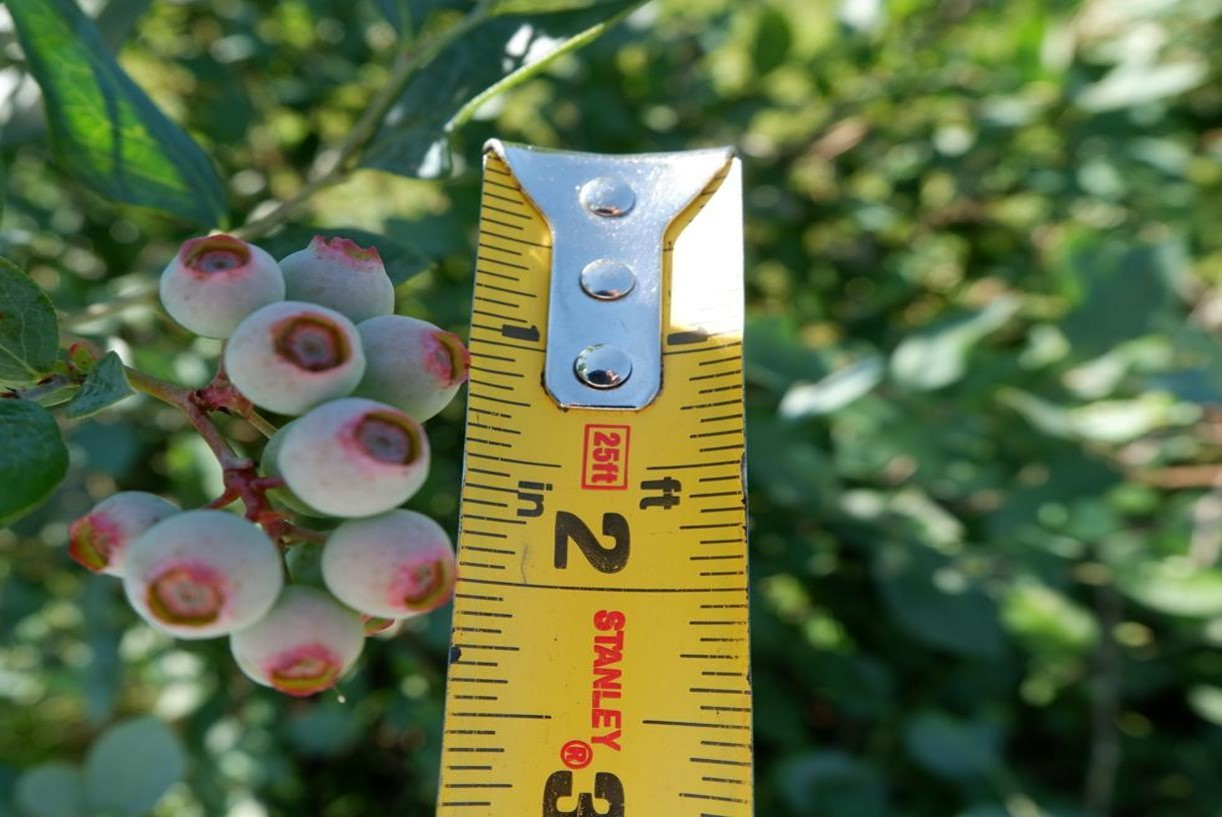Immature: (124, 509, 284, 640), (276, 397, 432, 518), (223, 300, 367, 417), (228, 586, 367, 697), (322, 509, 458, 620), (344, 316, 470, 424), (159, 234, 286, 339), (278, 234, 395, 325), (68, 492, 183, 577), (261, 424, 332, 518), (343, 605, 394, 633)
